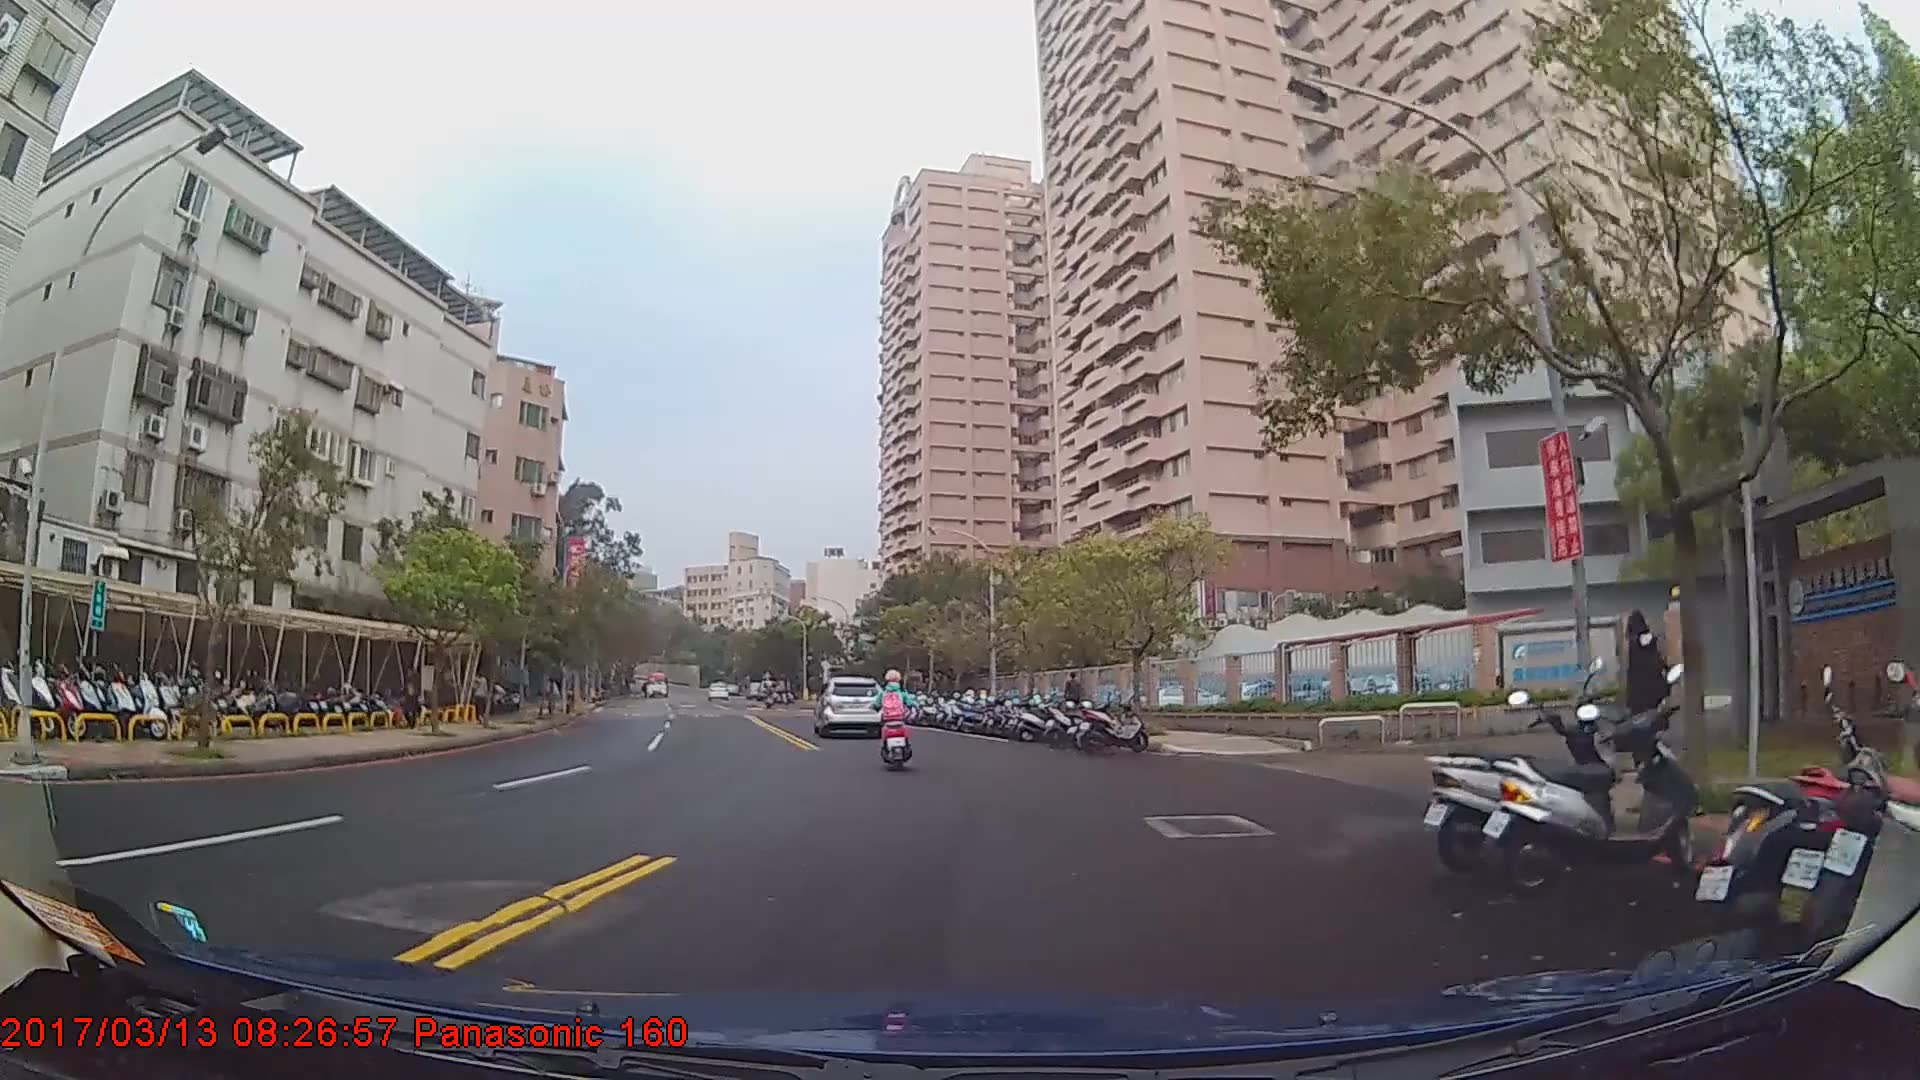pedestrian: (1610, 614, 1680, 800), (398, 668, 424, 732), (1065, 671, 1085, 729)
rider: (876, 669, 919, 767)
vehicle: (811, 673, 887, 738), (643, 669, 668, 700)
